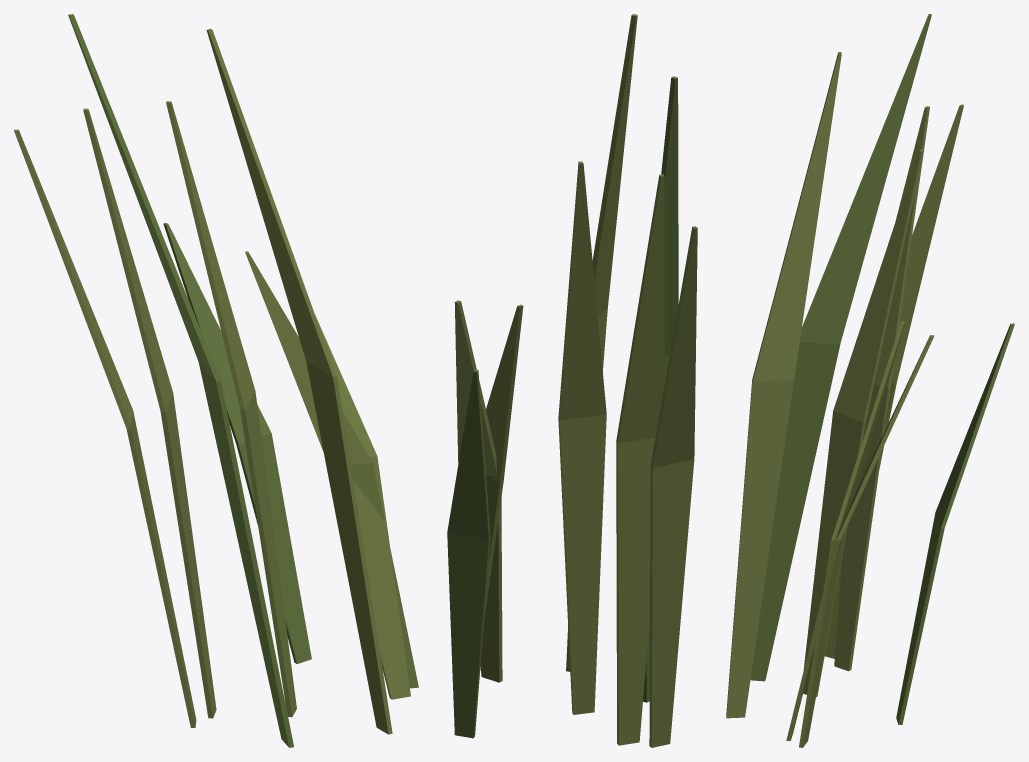
The model's file is foliage_meadow_tall_b.glb.
The picture shows the model from 3 angles, left to right: view 1: azimuth 30°, elevation 25°; view 2: azimuth 150°, elevation 25°; view 3: azimuth 270°, elevation 25°; orthographic projection. The views are drawn at different scales.
Parts seen in each view (by area): view 1: foliage_meadow_tall_b_cluster_material_01, foliage_meadow_tall_b_cluster_material_00; view 2: foliage_meadow_tall_b_cluster_material_01, foliage_meadow_tall_b_cluster_material_00; view 3: foliage_meadow_tall_b_cluster_material_01, foliage_meadow_tall_b_cluster_material_00.
Part boxes in pixels (x1,y1,x2,y2): foliage_meadow_tall_b_cluster_material_01: (14,28,418,734); foliage_meadow_tall_b_cluster_material_00: (68,14,311,747); foliage_meadow_tall_b_cluster_material_01: (454,14,697,747); foliage_meadow_tall_b_cluster_material_00: (447,76,678,738); foliage_meadow_tall_b_cluster_material_01: (726,52,963,747); foliage_meadow_tall_b_cluster_material_00: (750,14,1014,724).
Bounding box in the file's own units: 0.4834 × 1.01 × 0.4292.
